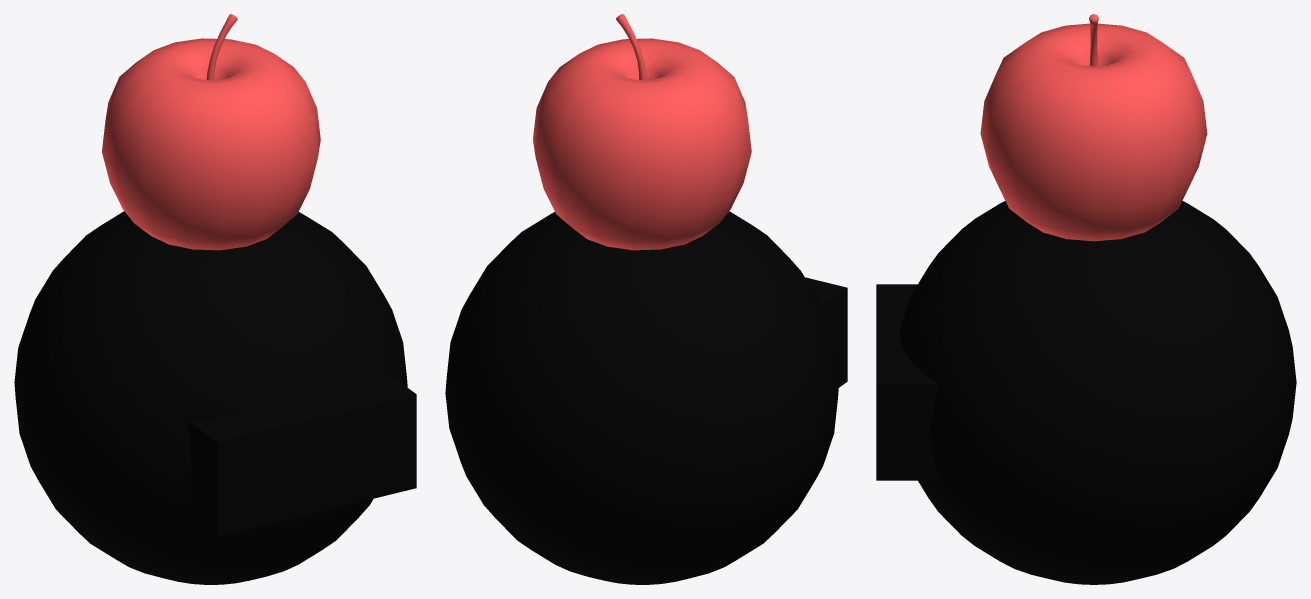
File: wear_apple.obj
3 views of the same model, side by side, from view 1: azimuth 30°, elevation 25°; view 2: azimuth 150°, elevation 25°; view 3: azimuth 270°, elevation 25° (orthographic). The views are drawn at different scales.
Visible parts, largest first — view 1: wear_apple; view 2: wear_apple; view 3: wear_apple.
Part boxes in pixels (x1,y1,x2,y2): wear_apple: (14, 14, 416, 584); wear_apple: (445, 14, 847, 584); wear_apple: (876, 14, 1296, 584).
Bounding box in the file's own units: 2 × 3.06 × 2.07.
Materials: 1 (1 with a texture image).
